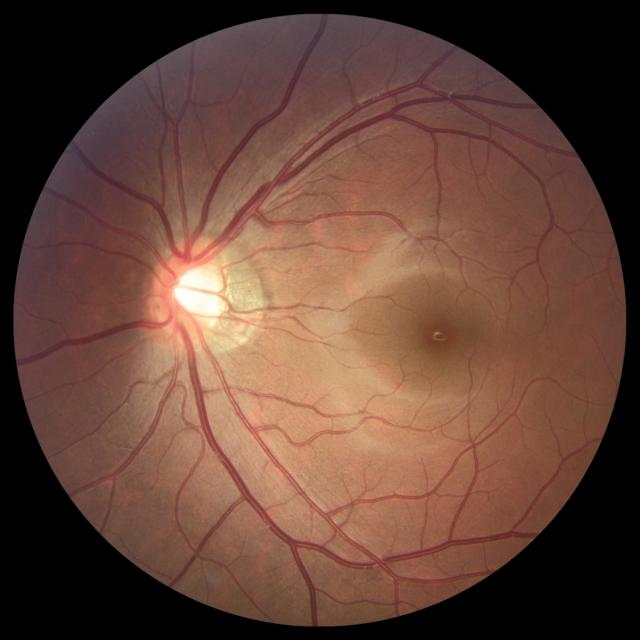OC: (168, 263, 214, 321)
OD: (152, 240, 228, 344)
